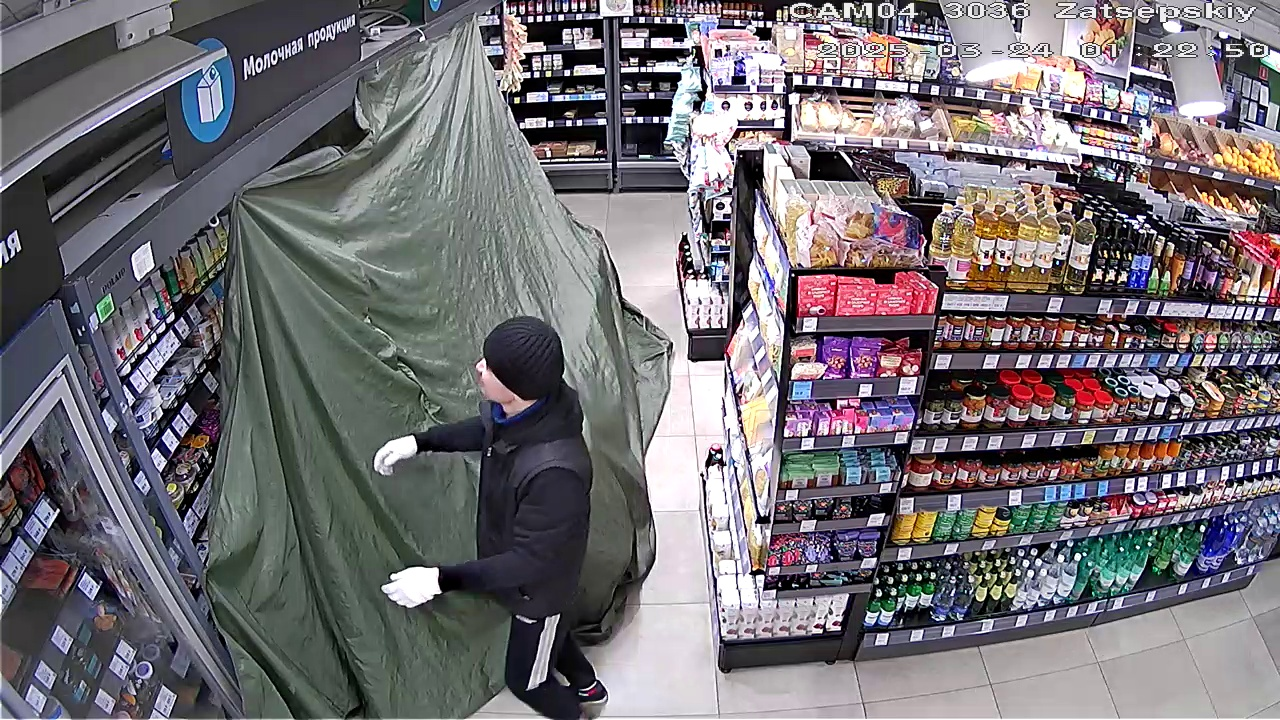Human: (365, 304, 607, 715)
dome: (205, 30, 656, 717)
